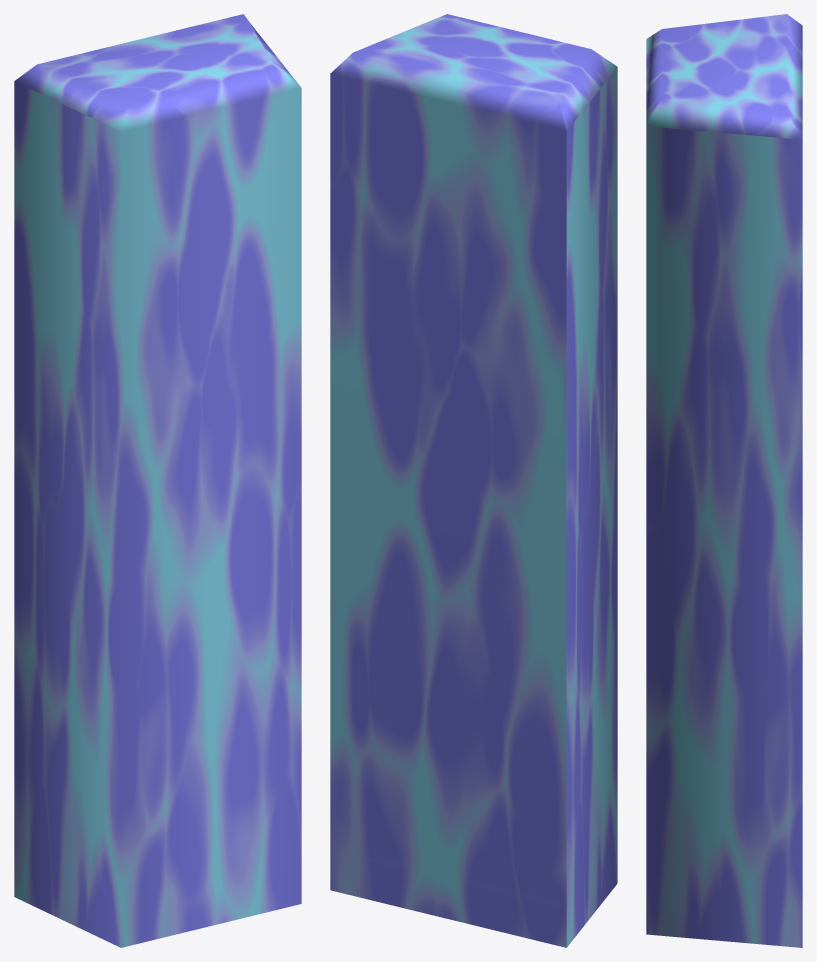
The model's file is LavaFallTest.fbx.
3 renders of one model, left to right at view 1: azimuth 30°, elevation 25°; view 2: azimuth 150°, elevation 25°; view 3: azimuth 270°, elevation 25°, orthographic.
Visible parts, largest first — view 1: LavaFallTest; view 2: LavaFallTest; view 3: LavaFallTest.
Part boxes in pixels (x1,y1,x2,y2): LavaFallTest: [14, 14, 301, 947]; LavaFallTest: [330, 14, 617, 947]; LavaFallTest: [646, 14, 802, 947].
Bounding box in the file's own units: 162 × 545 × 93.41.
